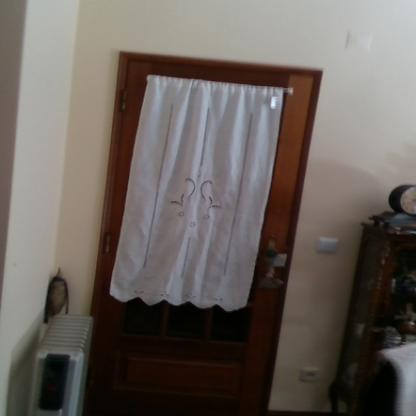door: (127, 56, 289, 416)
hinged: (120, 88, 130, 112), (88, 366, 96, 392), (104, 233, 111, 256)
knob: (264, 245, 279, 260)
